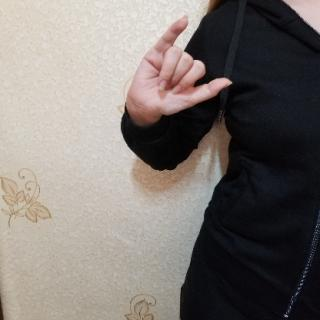YA: (125, 10, 233, 128)
